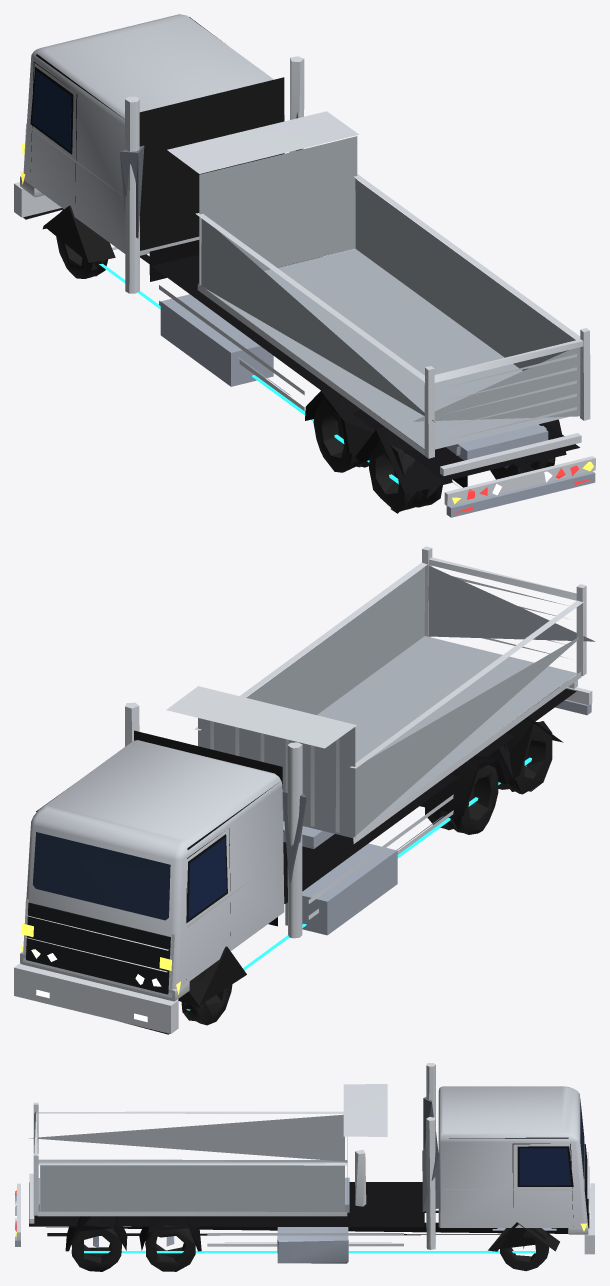
The model's file is dekotora_truck_dump_lod2.glb.
3 renders of one model, top to bottom at view 1: azimuth 30°, elevation 25°; view 2: azimuth 150°, elevation 25°; view 3: azimuth 270°, elevation 25°, orthographic. The views are drawn at different scales.
Parts seen in each view (by area): view 1: lod2_dump_bed, lod2_paint_white_panel, lod2_chrome, lod2_plastic_trim, lod2_plastic_black, lod2_steel, lod2_rubber_tire, lod2_glass, lod2_mesh_perf; view 2: lod2_dump_bed, lod2_paint_white_panel, lod2_chrome, lod2_plastic_black, lod2_vent_slots, lod2_glass_wind, lod2_steel, lod2_rubber_tire, lod2_plastic_trim, lod2_glass, lod2_mesh_perf; view 3: lod2_dump_bed, lod2_paint_white_panel, lod2_chrome, lod2_plastic_black, lod2_rubber_tire, lod2_steel, lod2_glass, lod2_lamp_cyan, lod2_mesh_perf, lod2_plastic_trim.
Boxes of the visible parts, <box> form: lod2_dump_bed: <box>199,136,580,449</box>; lod2_paint_white_panel: <box>20,14,284,255</box>; lod2_chrome: <box>14,56,595,506</box>; lod2_plastic_trim: <box>42,77,284,262</box>; lod2_plastic_black: <box>23,17,579,494</box>; lod2_steel: <box>112,247,595,517</box>; lod2_rubber_tire: <box>56,209,555,513</box>; lod2_glass: <box>32,70,71,150</box>; lod2_mesh_perf: <box>119,112,301,238</box>; lod2_dump_bed: <box>198,565,595,838</box>; lod2_paint_white_panel: <box>20,740,284,1001</box>; lod2_chrome: <box>14,546,592,1033</box>; lod2_plastic_black: <box>36,687,576,1034</box>; lod2_vent_slots: <box>26,902,170,994</box>; lod2_glass_wind: <box>32,832,170,920</box>; lod2_steel: <box>283,699,591,935</box>; lod2_rubber_tire: <box>181,721,552,1025</box>; lod2_plastic_trim: <box>134,730,282,1008</box>; lod2_glass: <box>188,838,226,919</box>; lod2_mesh_perf: <box>282,791,306,883</box>; lod2_dump_bed: <box>29,1114,344,1211</box>; lod2_paint_white_panel: <box>438,1086,588,1234</box>; lod2_chrome: <box>17,1063,594,1254</box>; lod2_plastic_black: <box>29,1137,573,1251</box>; lod2_rubber_tire: <box>71,1225,549,1271</box>; lod2_steel: <box>15,1177,556,1263</box>; lod2_glass: <box>519,1148,570,1185</box>; lod2_lamp_cyan: <box>84,1251,549,1253</box>; lod2_mesh_perf: <box>422,1097,439,1211</box>; lod2_plastic_trim: <box>488,1222,559,1251</box>.
Bounding box in the file's own units: 2.9 × 3.52 × 11.83.
15 materials, 6 textured.
